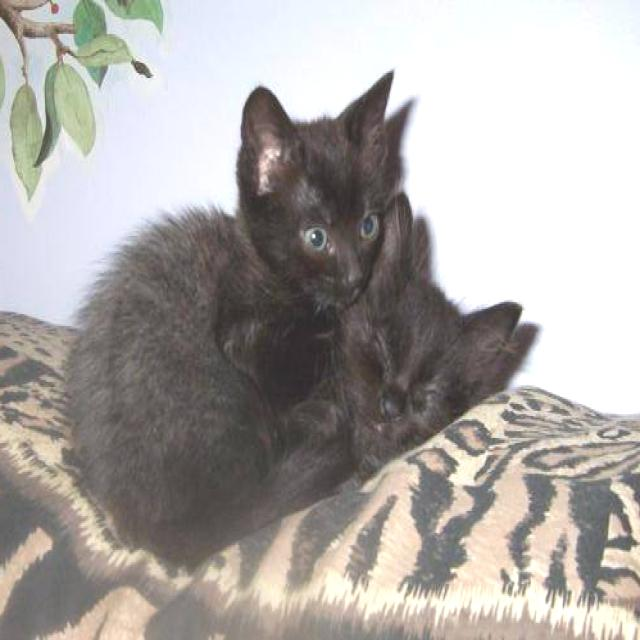Kucing: (49, 301, 565, 558), (239, 46, 427, 300)
